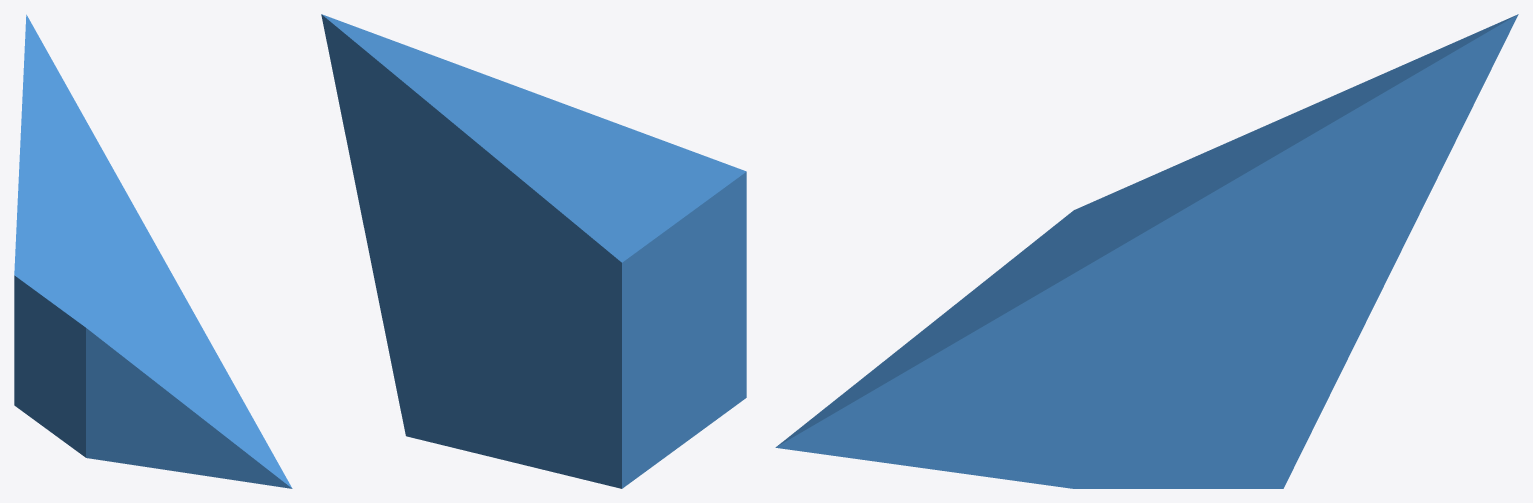
The model's file is icone1.glb.
3 views of the same model, side by side, from view 1: azimuth 30°, elevation 25°; view 2: azimuth 150°, elevation 25°; view 3: azimuth 270°, elevation 25° (orthographic). The views are drawn at different scales.
Visible parts, largest first — view 1: Cube; view 2: Cube; view 3: Cube.
Boxes of the visible parts, x1,y1,x2,y2 form: Cube: (14,14,292,488); Cube: (321,14,746,488); Cube: (775,14,1518,488).
Bounding box in the file's own units: 2 × 4.76 × 7.09.
